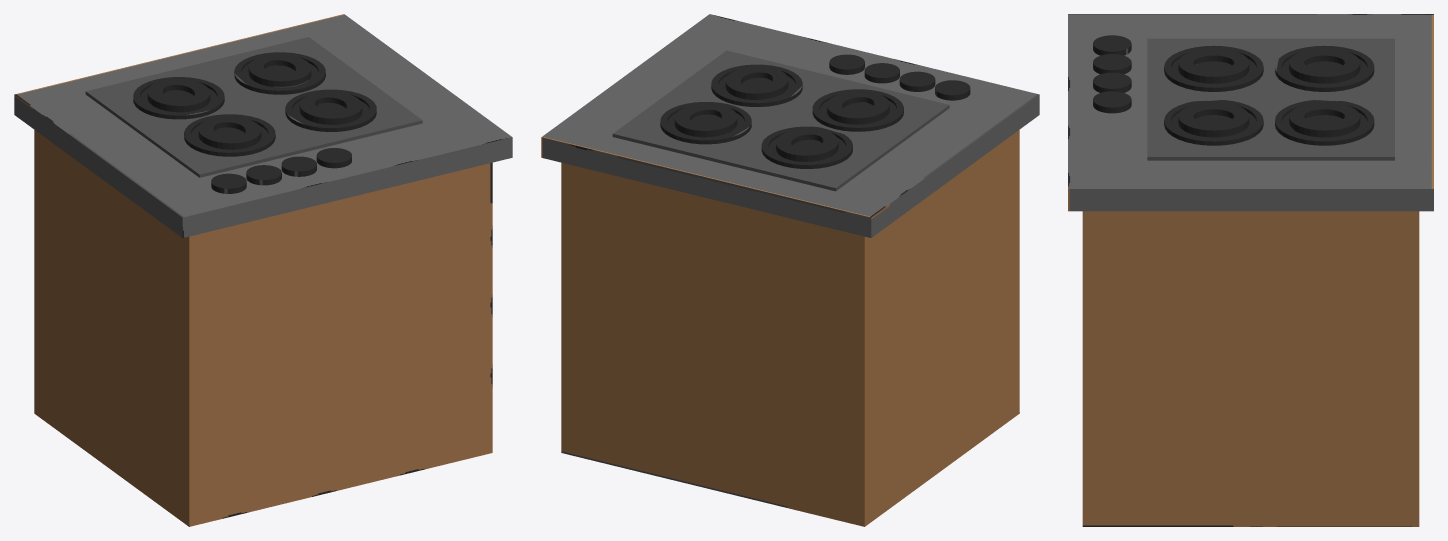
File: stove.fbx
3 renders of one model, left to right at view 1: azimuth 30°, elevation 25°; view 2: azimuth 150°, elevation 25°; view 3: azimuth 270°, elevation 25°, orthographic. The views are drawn at different scales.
Visible parts, largest first — view 1: Stove; view 2: Stove; view 3: Stove.
Boxes of the visible parts, left/top/right/bottom form: Stove: left=14, top=14, right=512, bottom=526; Stove: left=541, top=14, right=1039, bottom=526; Stove: left=1068, top=14, right=1433, bottom=526.
Size of the model in its own units: 281 by 268 by 249.
